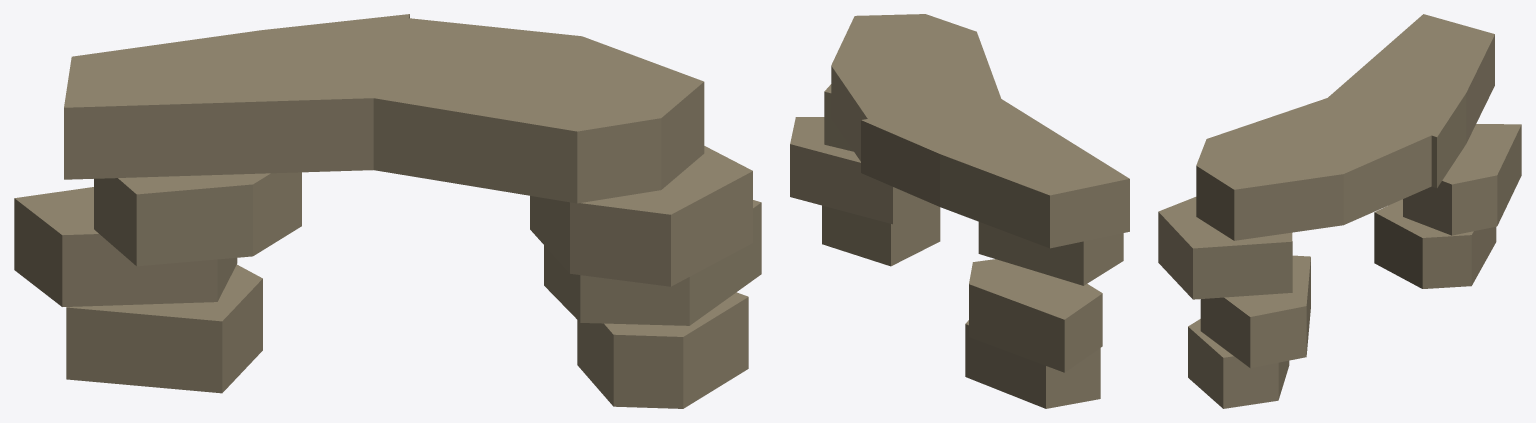
Rendered from 地形块B1.FBX.
The picture shows the model from 3 angles, left to right: view 1: azimuth 30°, elevation 25°; view 2: azimuth 150°, elevation 25°; view 3: azimuth 270°, elevation 25°; orthographic projection. The views are drawn at different scales.
Parts seen in each view (by area): view 1: 地形块B1; view 2: 地形块B1; view 3: 地形块B1.
Part boxes in pixels (box(x1,y1,x2,y2)): 地形块B1: box(14, 14, 761, 408); 地形块B1: box(790, 14, 1129, 408); 地形块B1: box(1158, 14, 1521, 408).
Size of the model in its own units: 6.49 by 3.13 by 5.
Materials: 1 (1 with a texture image).
